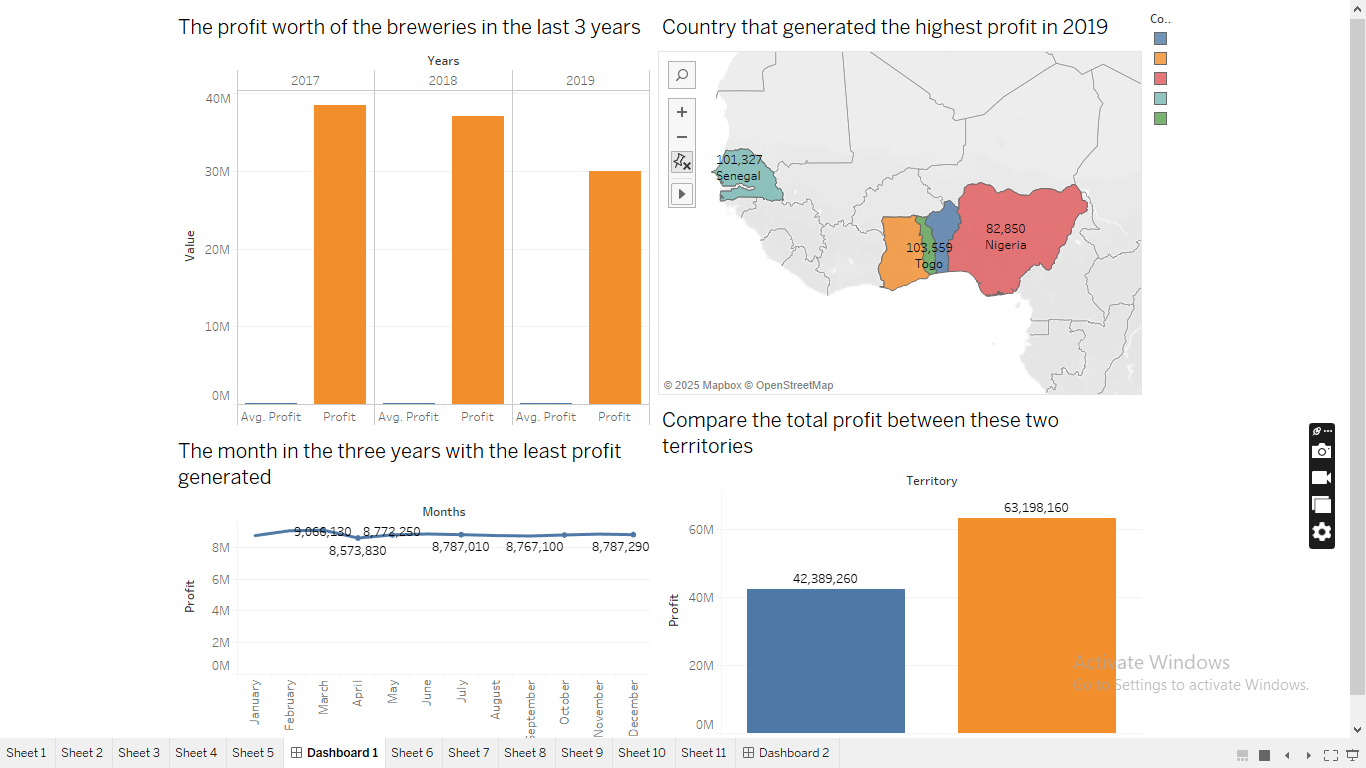

The dashboard page shown, as its layout file describes it:
{"tool":"tableau","page":{"name":"Dashboard 1","canvas":[1024,768],"ordinal":0},"visuals":[{"type":"worksheet","title":"Sheet 1","mark":"Automatic","cols":["YEARS"],"box":[8,8,484,424]},{"type":"worksheet","title":"Sheet 3","mark":"Multipolygon","box":[492,8,492,393]},{"type":"legend","title":"Sheet 3","param":"[federated.08c8sc20ij5bzn115uvqc16dt8gq].[none:COUNTRIES:nk]","box":[984,8,32,126]},{"type":"worksheet","title":"Sheet 2","mark":"Automatic","rows":["PROFIT"],"cols":["TERRITORY"],"box":[492,401,492,359]},{"type":"worksheet","title":"Sheet 4","mark":"Line","rows":["PROFIT"],"cols":["MONTHS"],"box":[8,432,484,328]}]}

Visuals, with their boxes on the page's 1024x768 design canvas (x1, y1, x2, y2). These are canvas units, not pixel positions in the 1366x768 screenshot, which may show the page scaled, cropped or inside an application window:
"Sheet 1" worksheet: [8, 8, 492, 432]
"Sheet 3" worksheet (Multipolygon marks): [492, 8, 984, 401]
"Sheet 3" legend: [984, 8, 1016, 134]
"Sheet 2" worksheet: [492, 401, 984, 760]
"Sheet 4" worksheet (Line marks): [8, 432, 492, 760]
